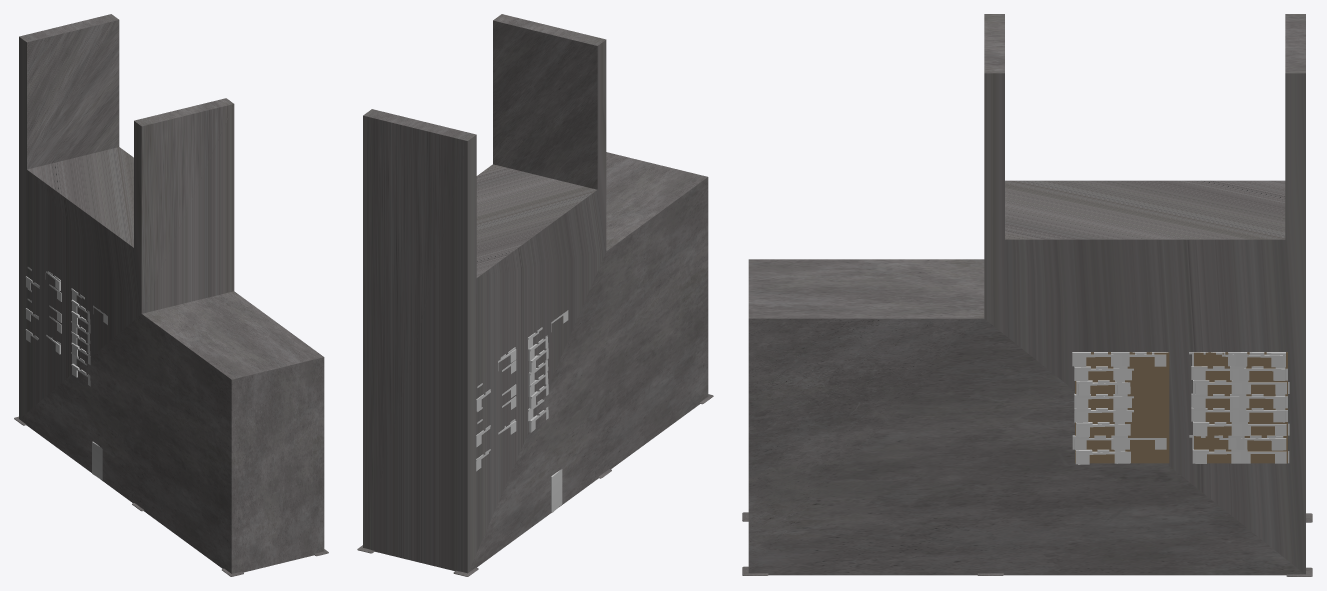
Rendered from ind_rack_b.DAE.
3 views of the same model, side by side, from view 1: azimuth 30°, elevation 25°; view 2: azimuth 150°, elevation 25°; view 3: azimuth 270°, elevation 25° (orthographic). The views are drawn at different scales.
Visible parts, largest first — view 1: Colmesh-1, ind_rack_b700, ind_rack_b300; view 2: Colmesh-1, ind_rack_b700, ind_rack_b300; view 3: Colmesh-1, ind_rack_b100, ind_rack_b300, ind_rack_b700.
Part boxes in pixels (x1,y1,x2,y2): Colmesh-1: [19, 14, 324, 573]; ind_rack_b700: [25, 267, 107, 479]; ind_rack_b300: [14, 271, 328, 576]; Colmesh-1: [363, 14, 708, 573]; ind_rack_b700: [476, 310, 568, 512]; ind_rack_b300: [357, 332, 713, 576]; Colmesh-1: [748, 14, 1305, 575]; ind_rack_b100: [1075, 352, 1287, 463]; ind_rack_b300: [742, 352, 1312, 576]; ind_rack_b700: [1072, 352, 1286, 464].
Size of the model in its own units: 127 by 485 by 471.
